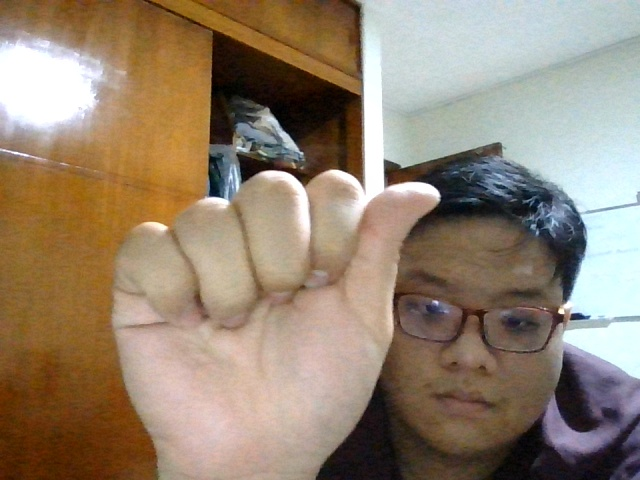a: (96, 165, 439, 461)
